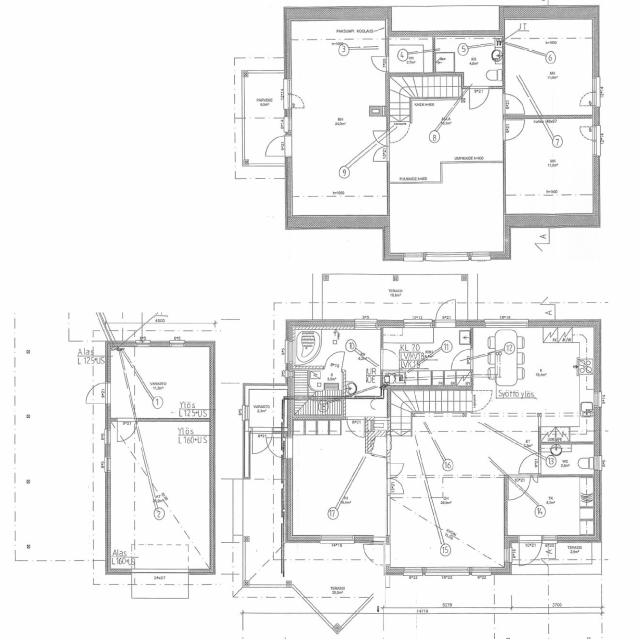door: (519, 536, 541, 566), (508, 475, 530, 501), (252, 427, 272, 455), (265, 136, 292, 156), (436, 300, 455, 328), (364, 545, 390, 565), (266, 438, 292, 458), (86, 383, 111, 403), (469, 86, 489, 111), (117, 418, 137, 442), (324, 349, 344, 373), (381, 349, 403, 370), (518, 453, 540, 474), (451, 350, 473, 370), (504, 120, 525, 140), (504, 94, 525, 114), (347, 417, 364, 437), (373, 56, 390, 72), (373, 146, 390, 162), (386, 479, 404, 494), (386, 464, 404, 478), (373, 132, 390, 146), (530, 475, 538, 485)
